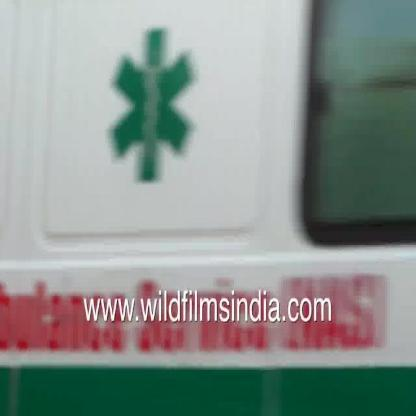priority: (45, 31, 382, 384)
